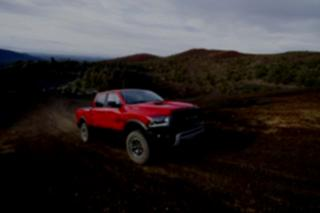ram: (182, 113, 200, 123)
